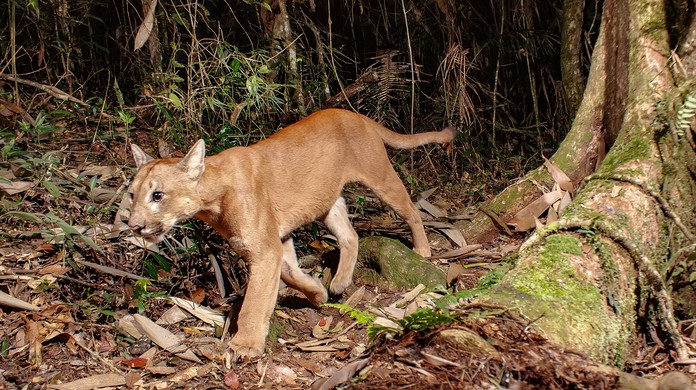OncaParda: (123, 105, 465, 365)
